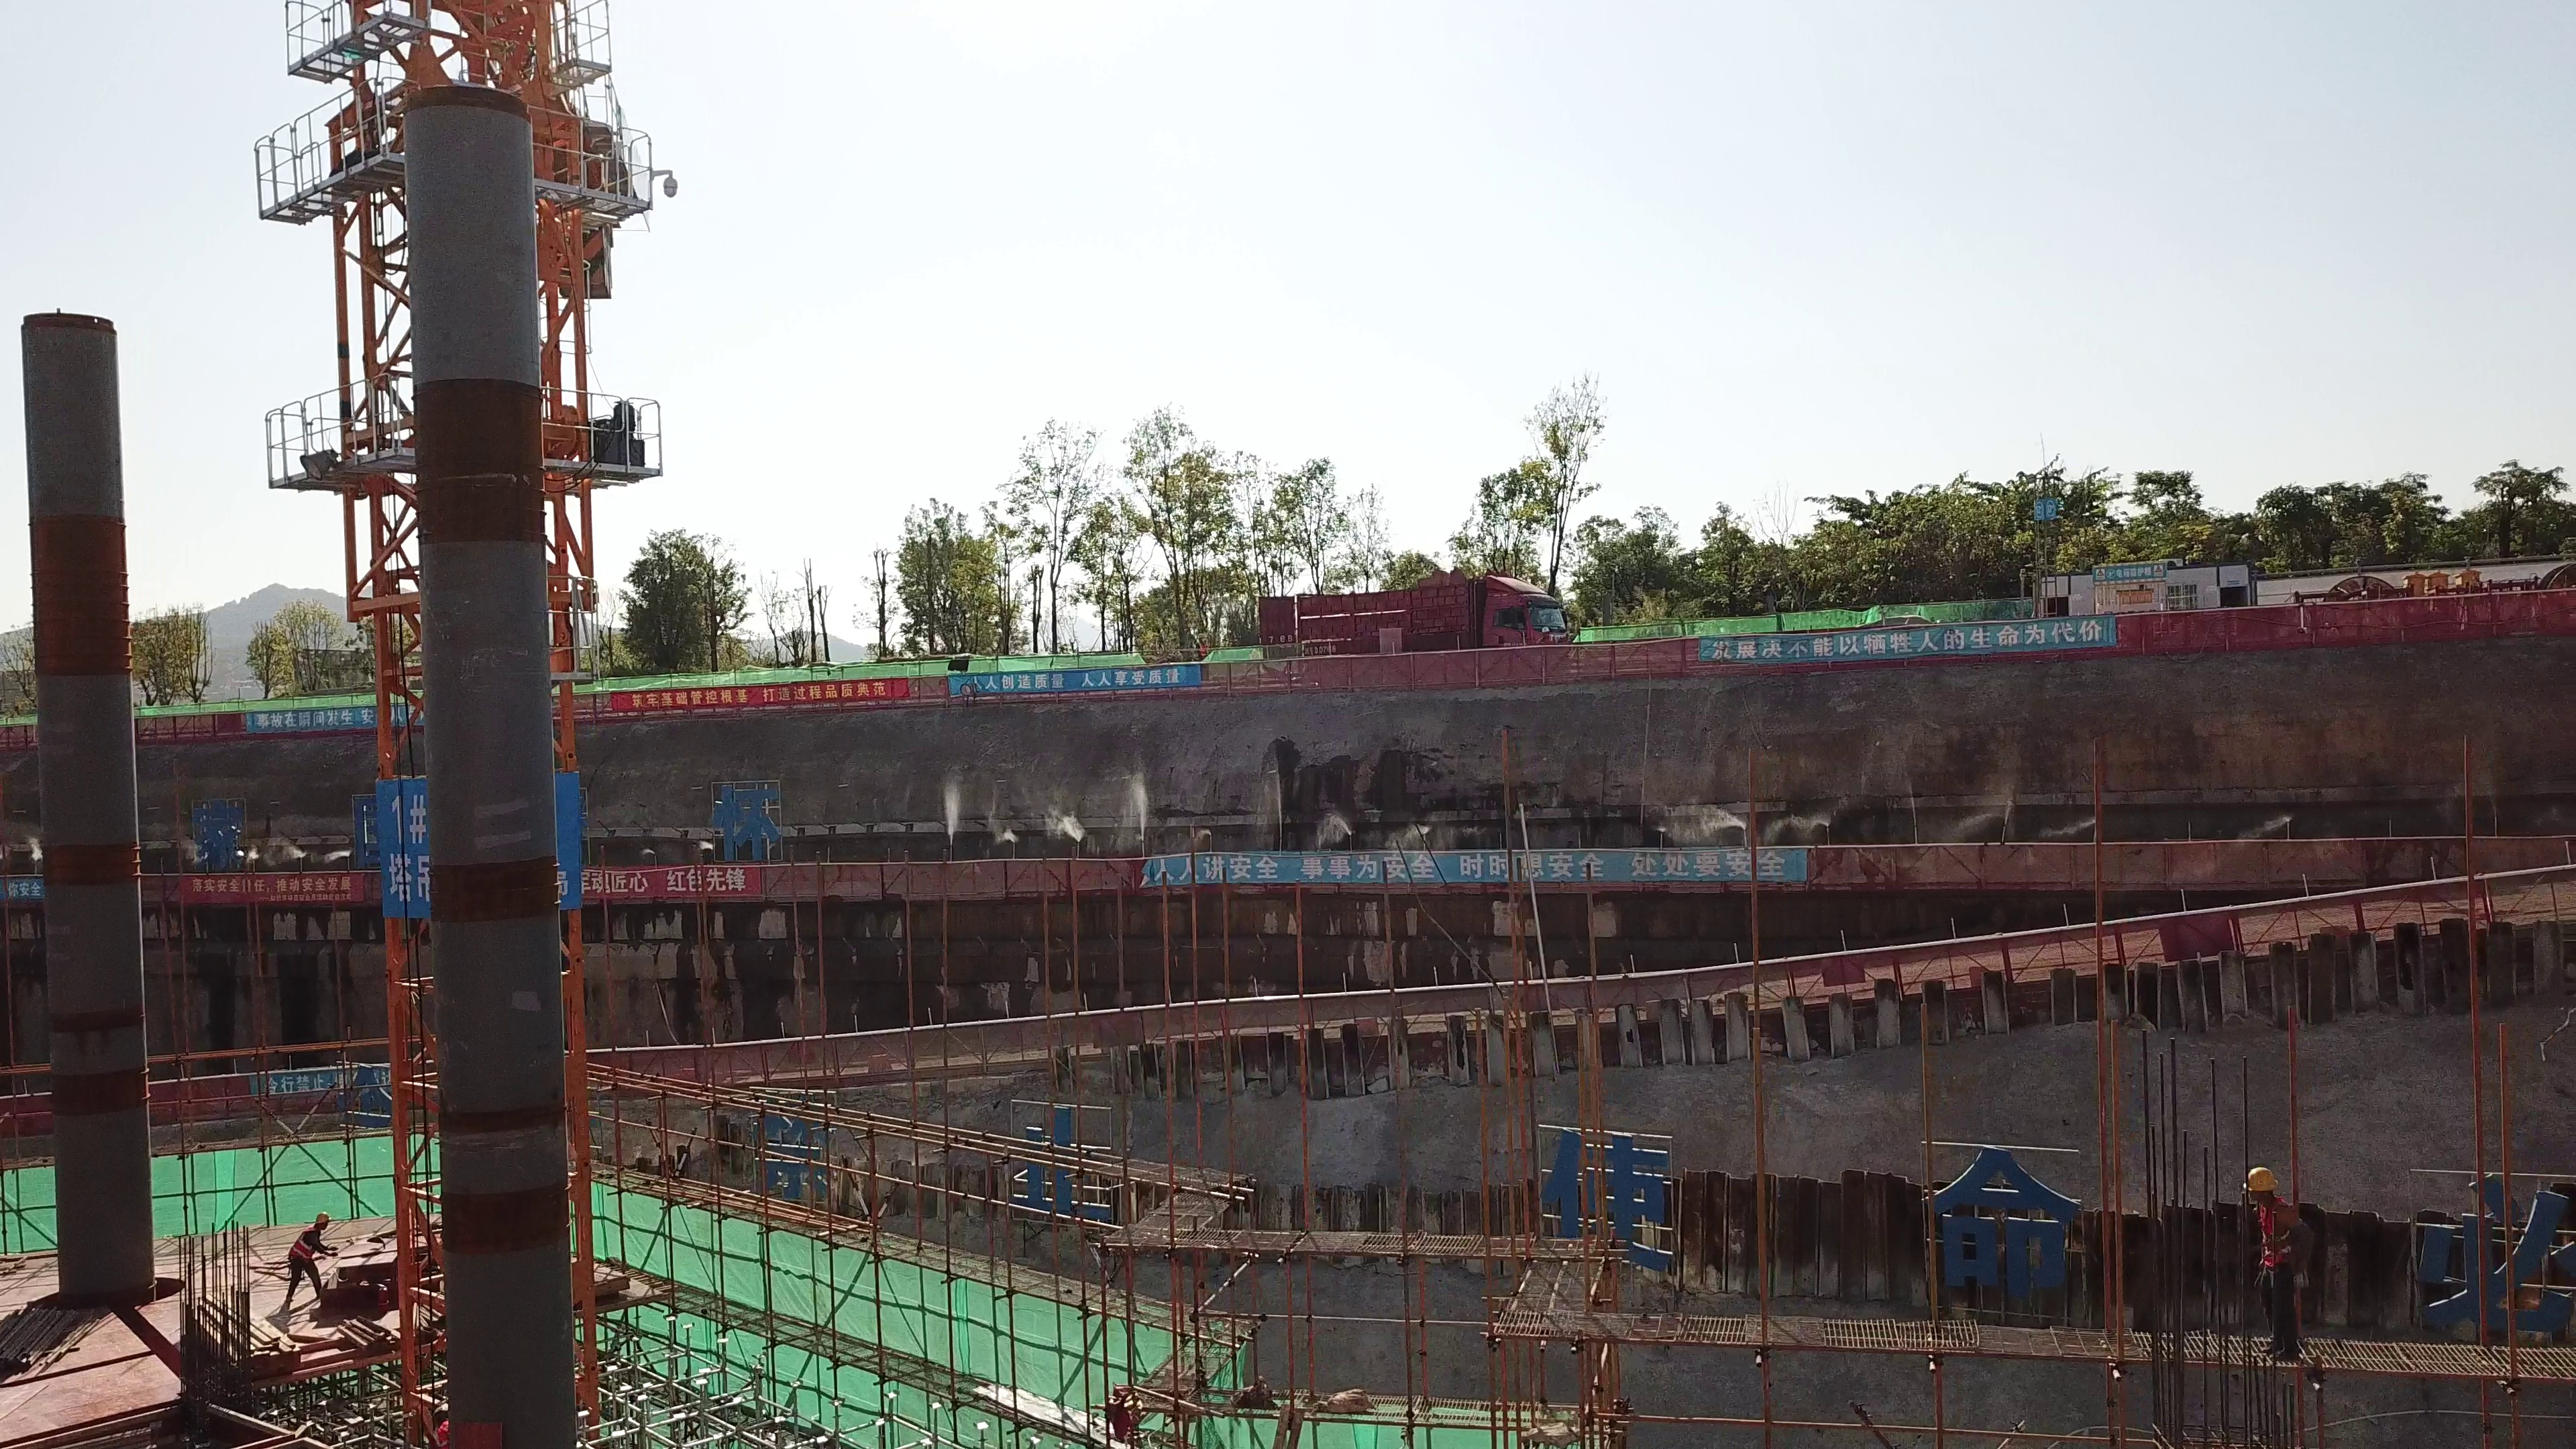fence: (1825, 833, 2557, 890), (1208, 643, 1702, 711), (1697, 929, 2010, 1020), (2015, 903, 2367, 983), (2123, 596, 2571, 657), (767, 845, 1138, 898)
helmet: (2243, 1165, 2282, 1191), (313, 1210, 331, 1222)
person: (2229, 1159, 2322, 1363), (274, 1207, 340, 1317)
slogan: (1150, 840, 1812, 888), (1699, 610, 2125, 667), (613, 674, 914, 714), (949, 663, 1203, 702), (586, 860, 761, 902), (181, 871, 368, 905), (246, 703, 408, 730)
vest: (2253, 1198, 2298, 1267), (282, 1228, 325, 1262)
